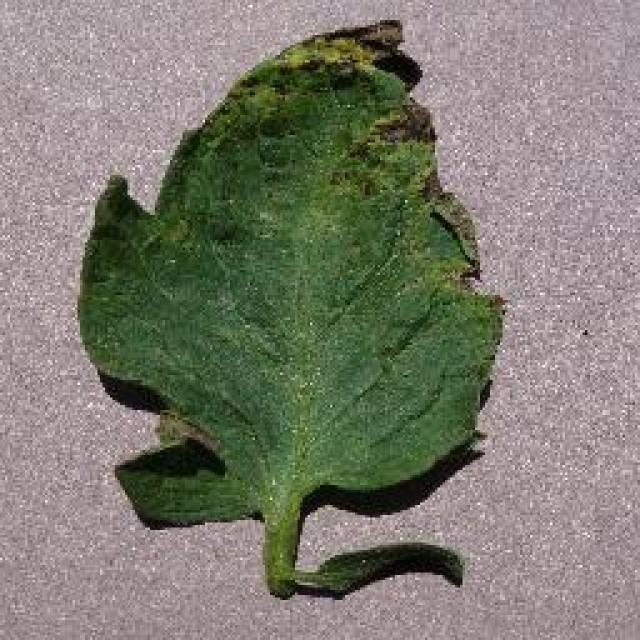Tomato target spot leaf: (79, 16, 506, 536)
